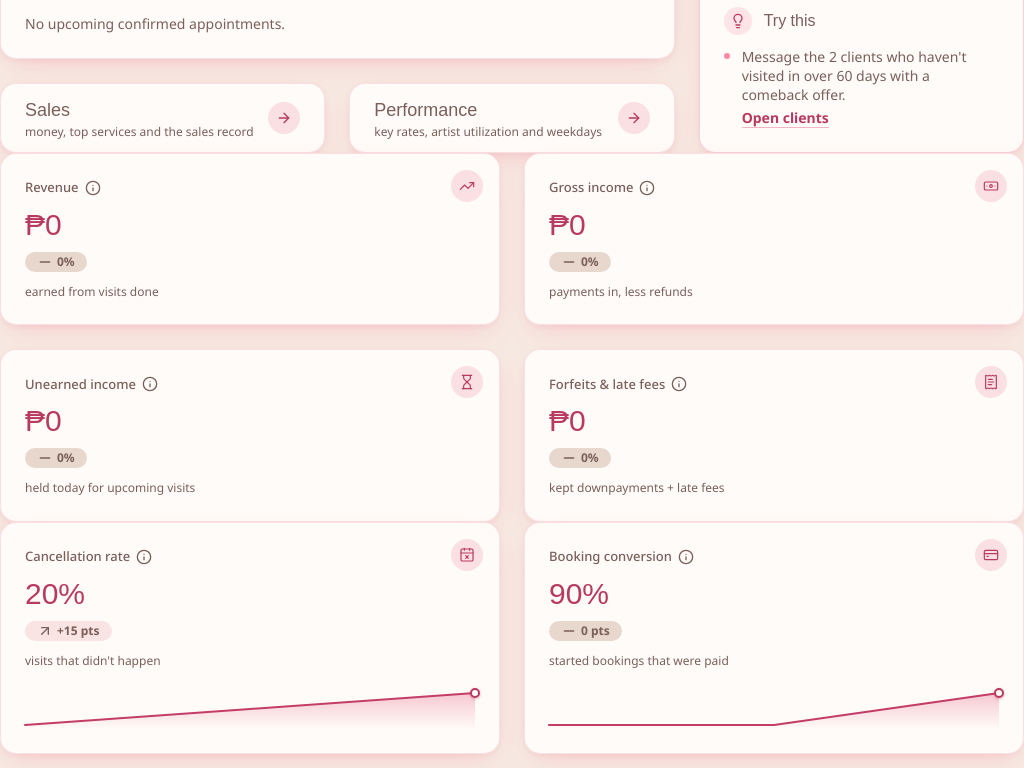
the report pages' stat cards › each have a note saying what they are and how they're counted
The image size is (1024, 768).
(page scrolled)
What coordinates should you click on to do the following:
click the button named "About Unearned income"
I would click on:
 (150, 384)
Its box is [140,374,160,394].
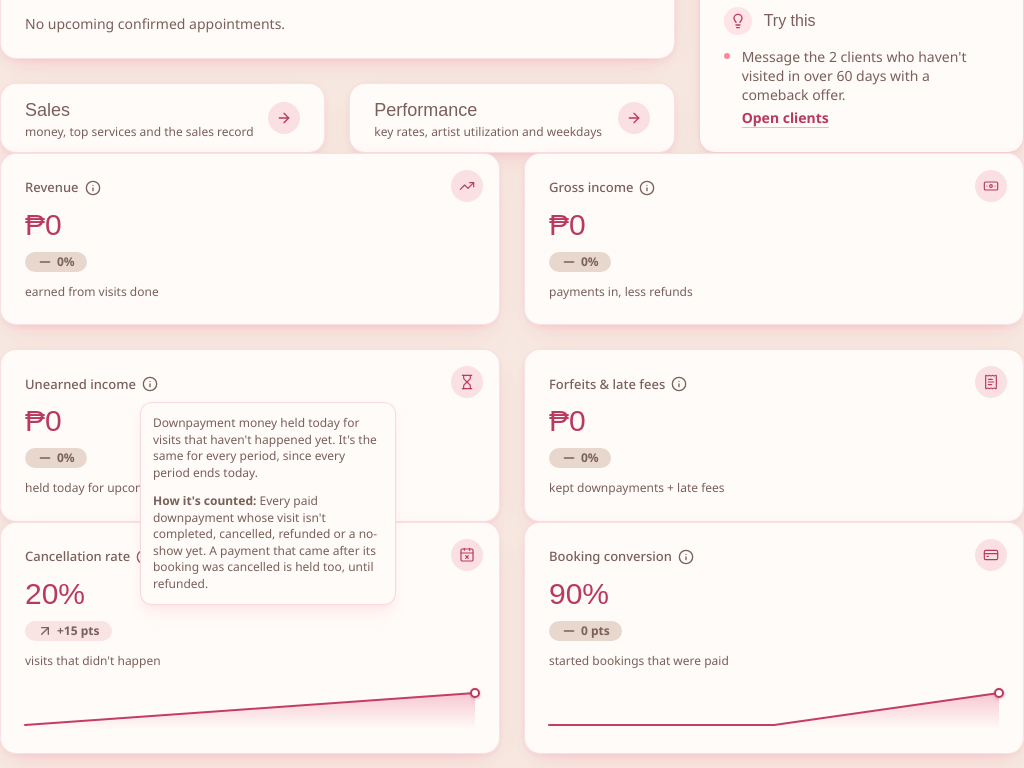
Expected: the tooltip shows "Every paid downpayment whose visit isn't completed, cancelled, refunded or a no-show yet. A payment that came after its booking was cancelled is held too, until", [153,492,377,592]
